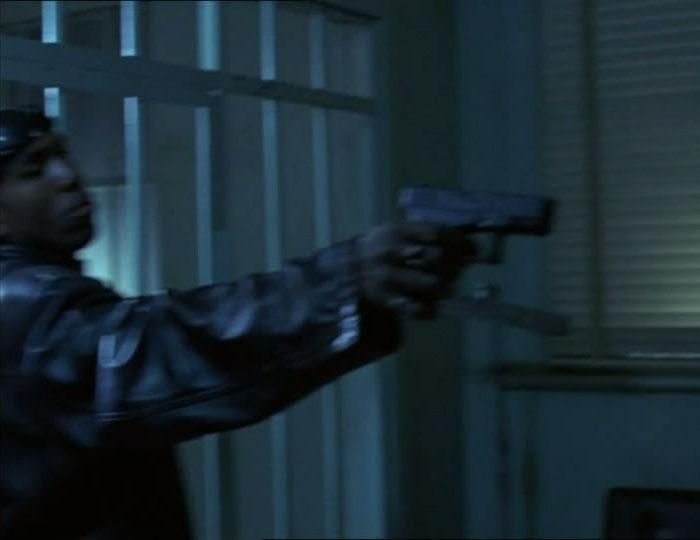gun: (385, 168, 566, 322)
